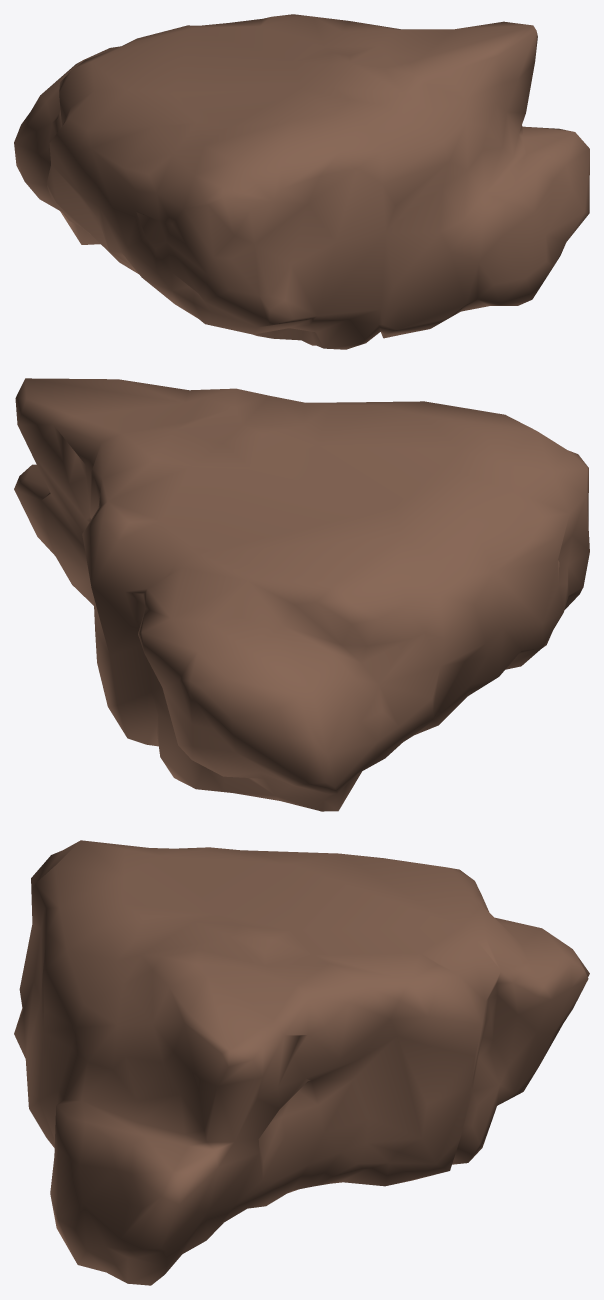
The model's file is Rock_Cliff_02.fbx.
3 renders of one model, top to bottom at view 1: azimuth 30°, elevation 25°; view 2: azimuth 150°, elevation 25°; view 3: azimuth 270°, elevation 25°, orthographic. The views are drawn at different scales.
Parts seen in each view (by area): view 1: Rock_Cliff_02_low_LOD0; view 2: Rock_Cliff_02_low_LOD0; view 3: Rock_Cliff_02_low_LOD0.
Boxes of the visible parts, x1,y1,x2,y2 form: Rock_Cliff_02_low_LOD0: (14,14,589,349); Rock_Cliff_02_low_LOD0: (14,378,589,811); Rock_Cliff_02_low_LOD0: (14,840,589,1285).
Size of what is drawn, in the model's own units: 749 by 365 by 696.
